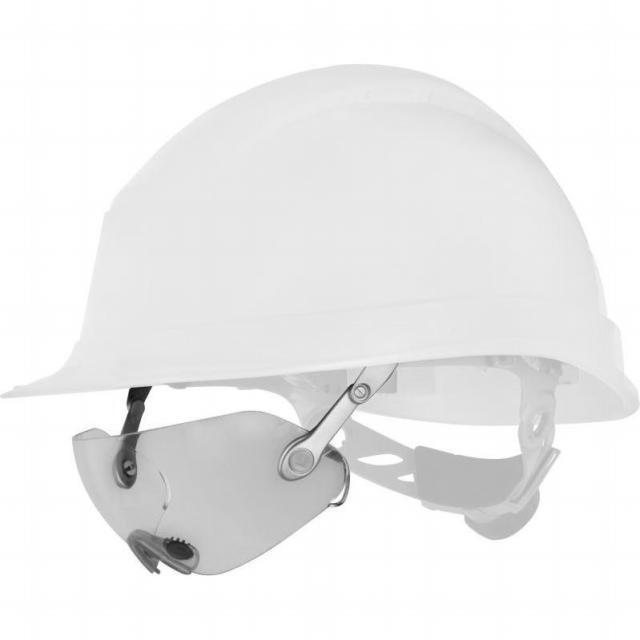safety_helmet: (0, 63, 640, 578)
